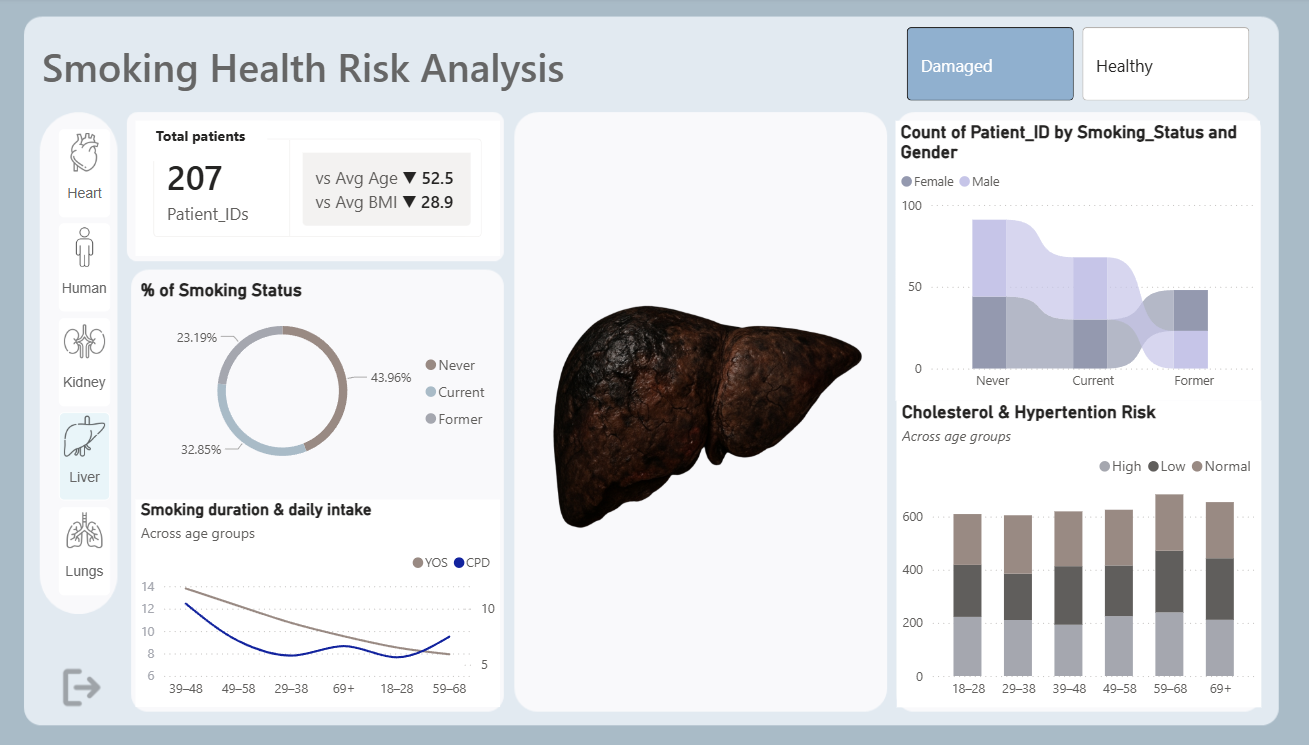

What the dashboard file says about the page in this screenshot:
{"tool":"powerbi","page":{"name":"Page 1","canvas":[1280,720],"ordinal":0},"visuals":[{"type":"cardVisual","fields":{"Data":["CountNonNull(health_dataset.Patient_ID)"]},"box":[145.5,118,347.2,129],"z":0},{"type":"advancedSlicerVisual","fields":{"Values":["condition.Organ_Condition"]},"box":[875.5,23.3,336.2,81],"z":1},{"type":"ChicletSlicer1448559807354","fields":{"Category":["Organs.Organ"],"Image":["Organs.Icon_URL"]},"box":[64.5,118,70,465.2],"z":2},{"type":"image","box":[511.8,118,347.2,558.5],"z":3},{"type":"donutChart","title":"% of Smoking Status","fields":{"Category":["health_dataset.Smoking_Status"],"Y":["CountNonNull(health_dataset.Smoking_Status)"]},"box":[145.5,269,347.2,193.5],"z":4},{"type":"lineChart","title":"Smoking duration & daily intake ","fields":{"Category":["health_dataset.Age Group"],"Y":["Avg(health_dataset.Years_of_Smoking)"],"Y2":["Avg(health_dataset.Cigarettes_Per_Day)"]},"box":[145.5,478.9,347.2,197.6],"z":5},{"type":"ribbonChart","fields":{"Category":["health_dataset.Smoking_Status"],"Y":["CountNonNull(health_dataset.Patient_ID)"],"Series":["health_dataset.Gender"]},"box":[868.6,118,347.2,266.2],"z":6},{"type":"columnChart","title":"Cholesterol & Hypertention Risk","fields":{"Category":["health_dataset.Age Group"],"Y":["Avg(health_dataset.Cholesterol_Level)"],"Series":["health_dataset.BP_Risk"]},"box":[870,384.2,347.2,292.3],"z":7},{"type":"textbox","box":[159.2,118,111.1,38.4],"z":8},{"type":"textbox","box":[50.8,35.7,668.3,68.6],"z":9}]}

Visuals, with their boxes in screenshot pixels (x1, y1, x2, y2), scaled from the page's 1280x720 canvas onto the 1309x745 screenshot:
cardVisual - CountNonNull(health_dataset.Patient_ID): l=149, t=122, r=504, b=256
advancedSlicerVisual - condition.Organ_Condition: l=895, t=24, r=1239, b=108
ChicletSlicer1448559807354 - Organs.Organ x Organs.Icon_URL: l=66, t=122, r=138, b=603
image: l=523, t=122, r=878, b=700
"% of Smoking Status" donutChart: l=149, t=278, r=504, b=479
"Smoking duration & daily intake " lineChart: l=149, t=496, r=504, b=700
ribbonChart - health_dataset.Smoking_Status x CountNonNull(health_dataset.Patient_ID): l=888, t=122, r=1243, b=398
"Cholesterol & Hypertention Risk" columnChart: l=890, t=398, r=1245, b=700
textbox: l=163, t=122, r=276, b=162
textbox: l=52, t=37, r=735, b=108
